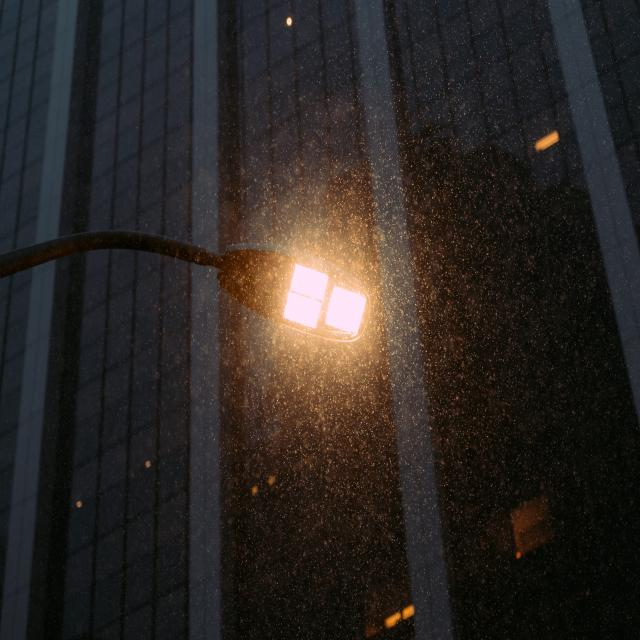Street Light: (0, 216, 372, 371)
